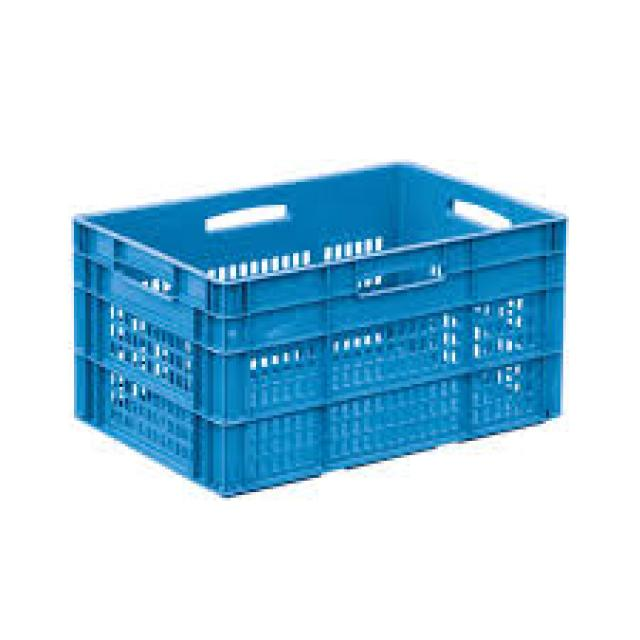basket: (31, 105, 612, 528)
